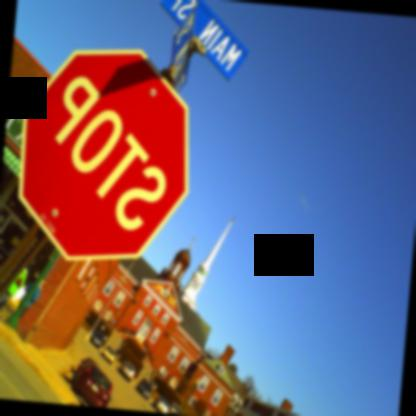handbag: (17, 273, 26, 287)
